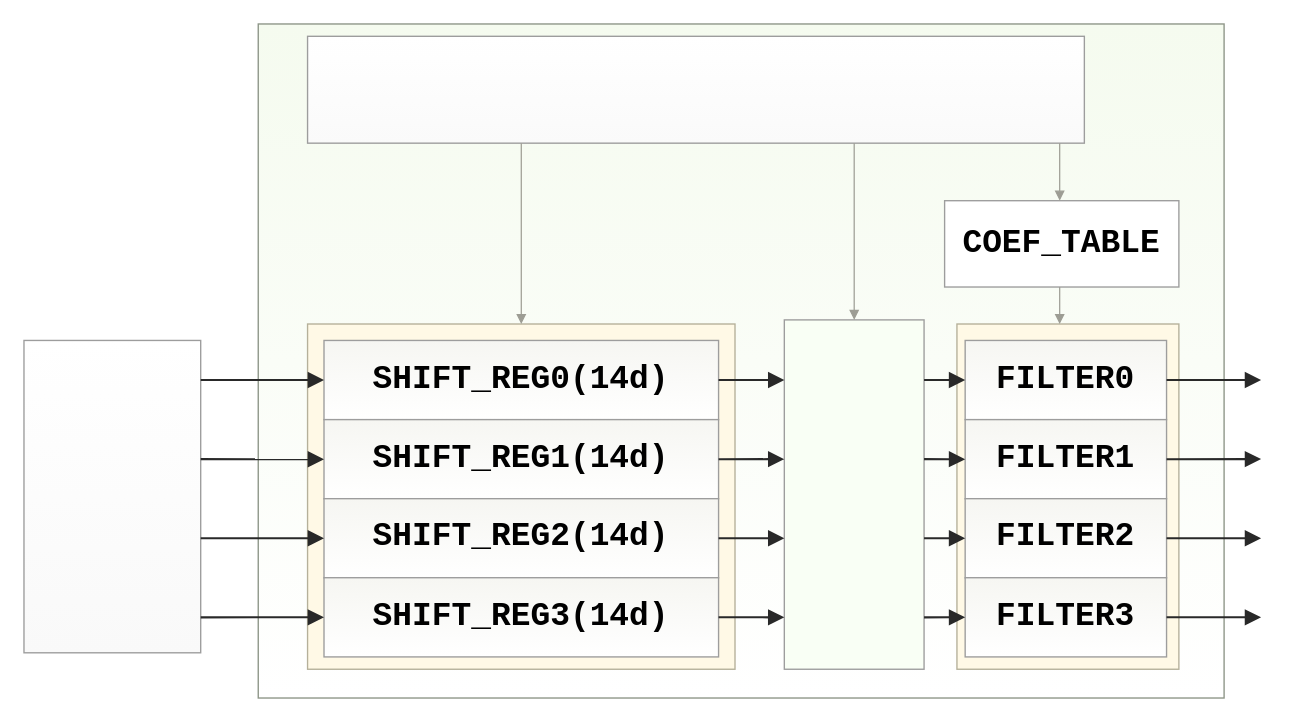
This 1300x722 diagram has some shape labels left out. The centre of each missing label's shape, as x and y in pixels:
"AFIFO Depth=4" belongs at (x=112, y=496).
"CTRL" belongs at (x=695, y=89).
"FILTE R_MUX" belongs at (x=853, y=494).
